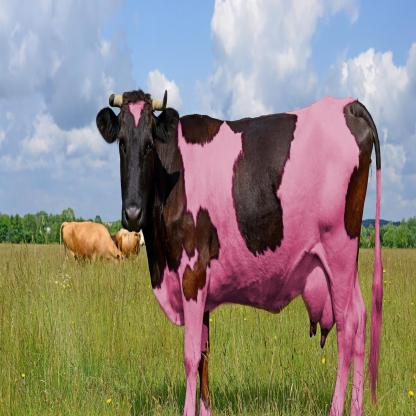cow: (96, 90, 381, 416)
